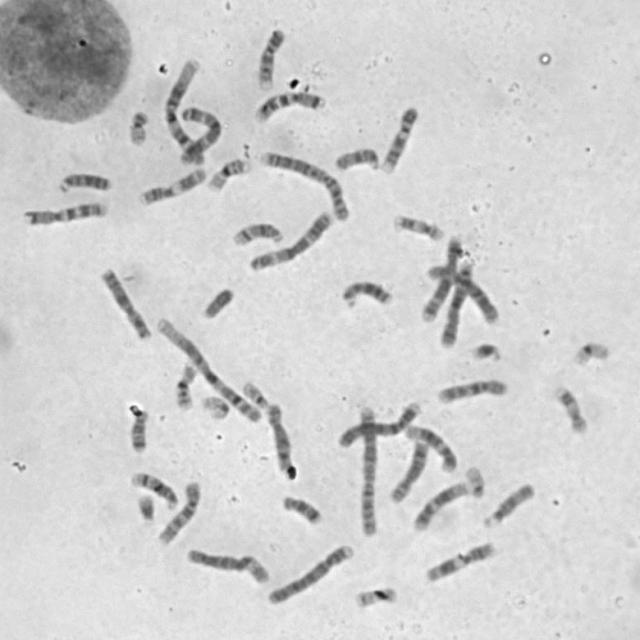A1: (149, 310, 266, 424), (158, 52, 206, 165)
A2: (253, 144, 353, 222), (353, 396, 381, 538)
A3: (244, 204, 336, 272), (174, 100, 224, 165)
B4: (262, 537, 356, 606), (332, 393, 424, 450)
B5: (415, 228, 465, 324), (434, 253, 478, 349)
C10: (152, 474, 204, 547), (432, 372, 511, 405)
C11: (419, 534, 500, 584), (132, 160, 210, 207)
C12: (407, 474, 473, 533), (399, 417, 460, 474)
C6: (421, 258, 501, 326), (182, 542, 272, 587)
C7: (249, 84, 328, 124), (19, 195, 111, 227)
C8: (385, 435, 432, 504), (261, 396, 297, 478)
C9: (377, 100, 422, 174), (251, 20, 289, 90)
D13: (336, 272, 394, 310), (52, 164, 115, 196)
D14: (124, 464, 180, 512), (226, 215, 286, 248)
D15: (478, 476, 538, 529), (330, 140, 383, 172)
E16: (201, 150, 252, 193), (169, 356, 200, 412)
E17: (549, 378, 592, 436), (388, 207, 448, 242)
E18: (276, 488, 325, 526), (122, 400, 150, 456)
F19: (568, 333, 614, 367), (196, 388, 232, 421)
F20: (122, 103, 151, 147), (352, 585, 400, 608)
G21: (466, 334, 506, 364), (130, 487, 158, 523)
G22: (237, 374, 271, 410), (460, 458, 489, 499)
X: (94, 260, 154, 342)
Y: (197, 280, 237, 320)
